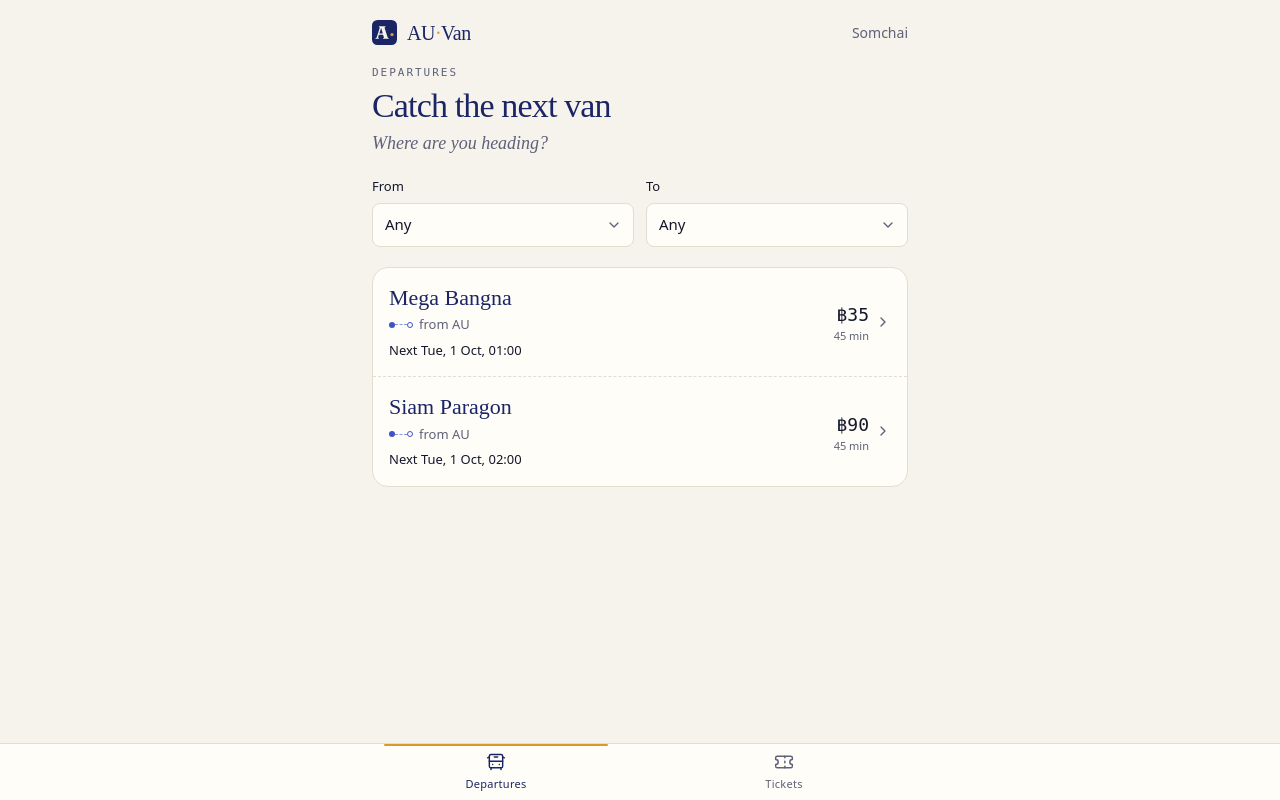
Student picks a route first › lists each route once, then shows only that route's departures
Click the button "Mega Bangna from AU Next Tue, 1 Oct, 01:00 ฿35 45 min" at [450, 297], box [373,268,907,376]
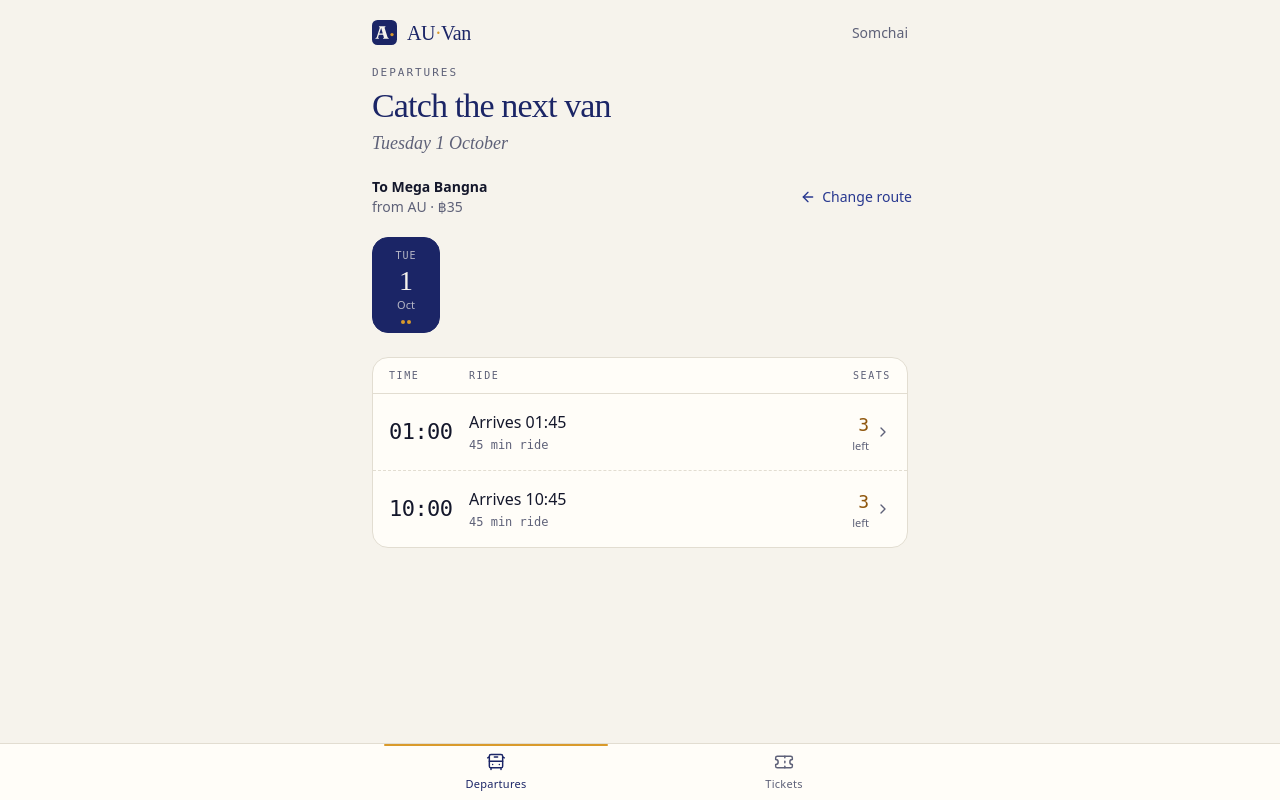
Result: the text "Arrives 01:45" is shown 2 times at [469,411,566,433]; [469,488,566,510]
Result: the text "To Mega Bangna" is shown at [372,177,488,197]
Result: the button "Siam Paragon" is gone
